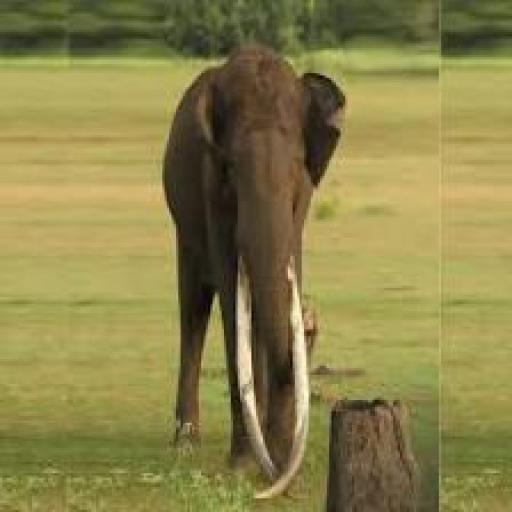Elephant: (137, 39, 344, 499)
